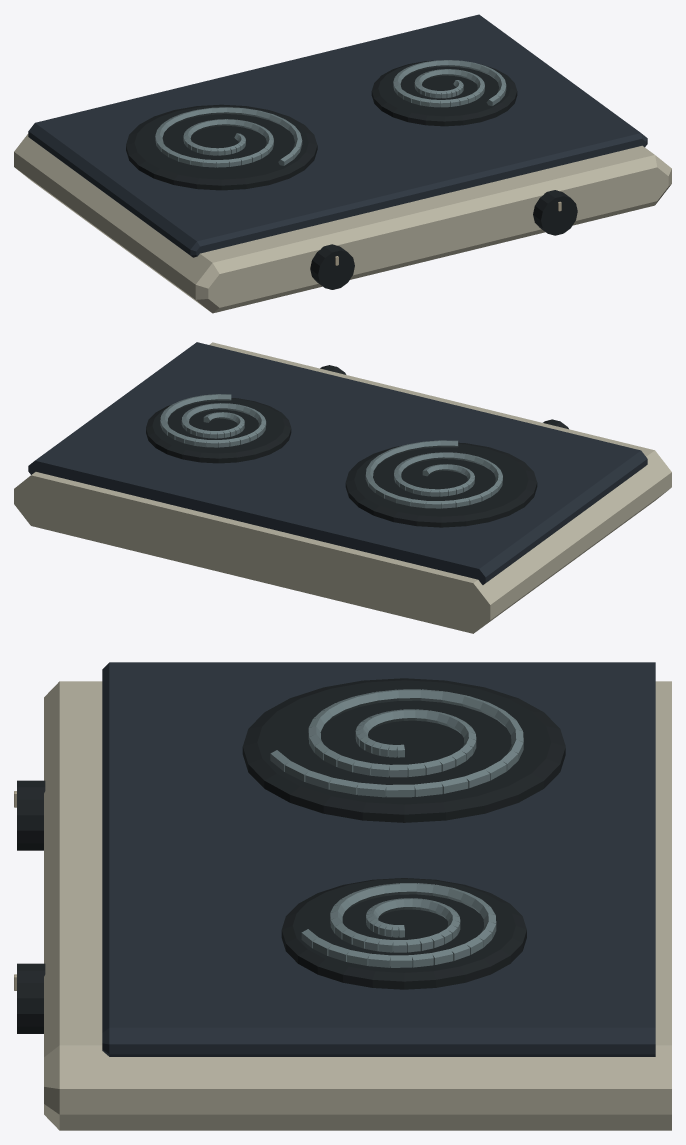
The model's file is A-08a_hotplate.glb.
3 views of the same model, one above another, from view 1: azimuth 30°, elevation 25°; view 2: azimuth 150°, elevation 25°; view 3: azimuth 270°, elevation 25° (orthographic). The views are drawn at different scales.
Parts seen in each view (by area): view 1: A-08a_hotplate; view 2: A-08a_hotplate; view 3: A-08a_hotplate.
Part boxes in pixels (x1=…): A-08a_hotplate: x1=14, y1=14, x2=671, y2=313; A-08a_hotplate: x1=14, y1=342, x2=671, y2=633; A-08a_hotplate: x1=14, y1=662, x2=671, y2=1130.
Bounding box in the file's own units: 0.62 × 0.0928 × 0.44.
